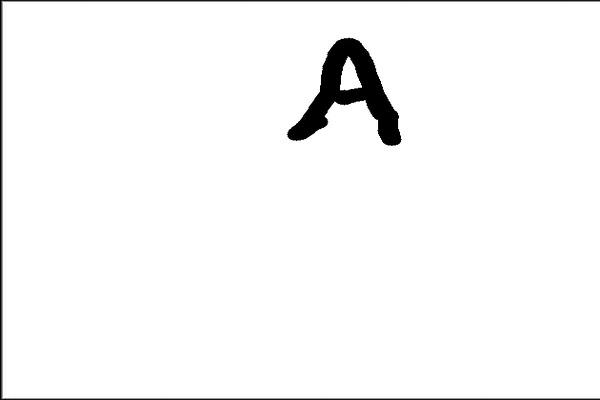A: (278, 31, 412, 153)
